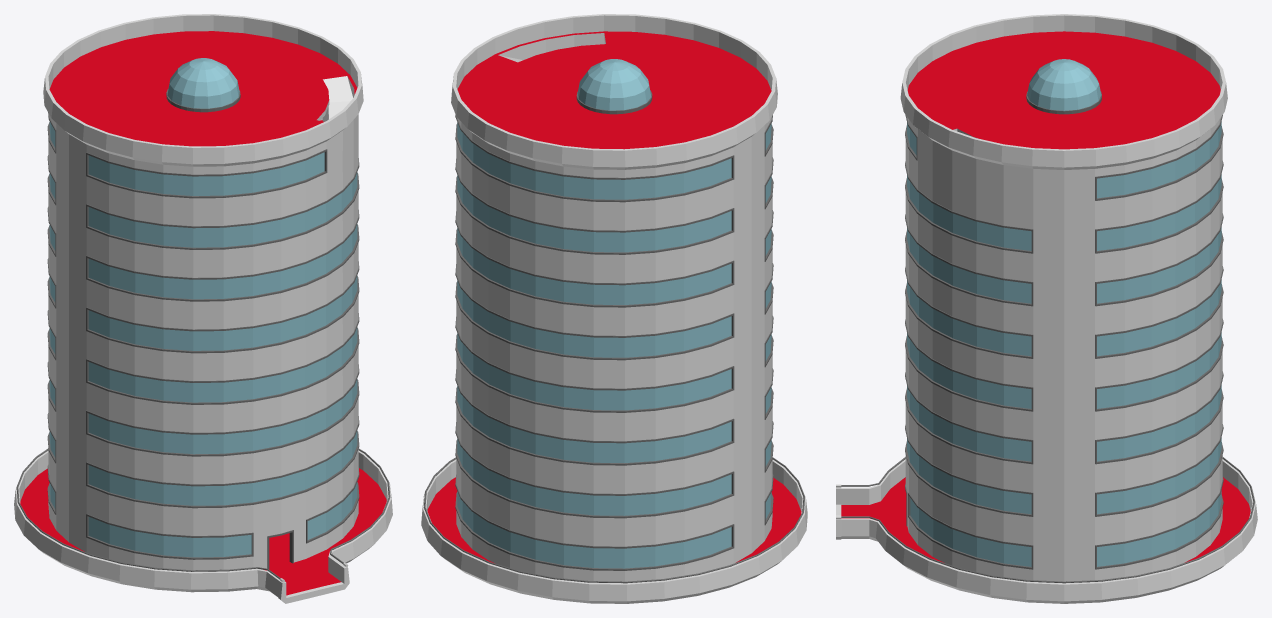
Rendered from bubbleHome6.fbx.
3 renders of one model, left to right at view 1: azimuth 30°, elevation 25°; view 2: azimuth 150°, elevation 25°; view 3: azimuth 270°, elevation 25°, orthographic. The views are drawn at different scales.
Parts seen in each view (by area): view 1: Wall, Glass, Floor, Frame, Stairs; view 2: Wall, Glass, Floor, Frame; view 3: Wall, Glass, Floor, Frame.
Boxes of the visible parts, bbox=[...] form: Wall: bbox=[14, 14, 392, 603]; Glass: bbox=[49, 58, 357, 557]; Floor: bbox=[20, 31, 386, 595]; Frame: bbox=[16, 89, 390, 579]; Stairs: bbox=[322, 76, 352, 121]; Wall: bbox=[421, 14, 807, 603]; Glass: bbox=[457, 59, 771, 568]; Floor: bbox=[427, 31, 801, 563]; Frame: bbox=[423, 90, 804, 583]; Wall: bbox=[836, 14, 1257, 603]; Glass: bbox=[907, 59, 1221, 566]; Floor: bbox=[841, 31, 1250, 562]; Frame: bbox=[841, 91, 1254, 583].
Bounding box in the file's own units: 22 × 29.25 × 23.96.
